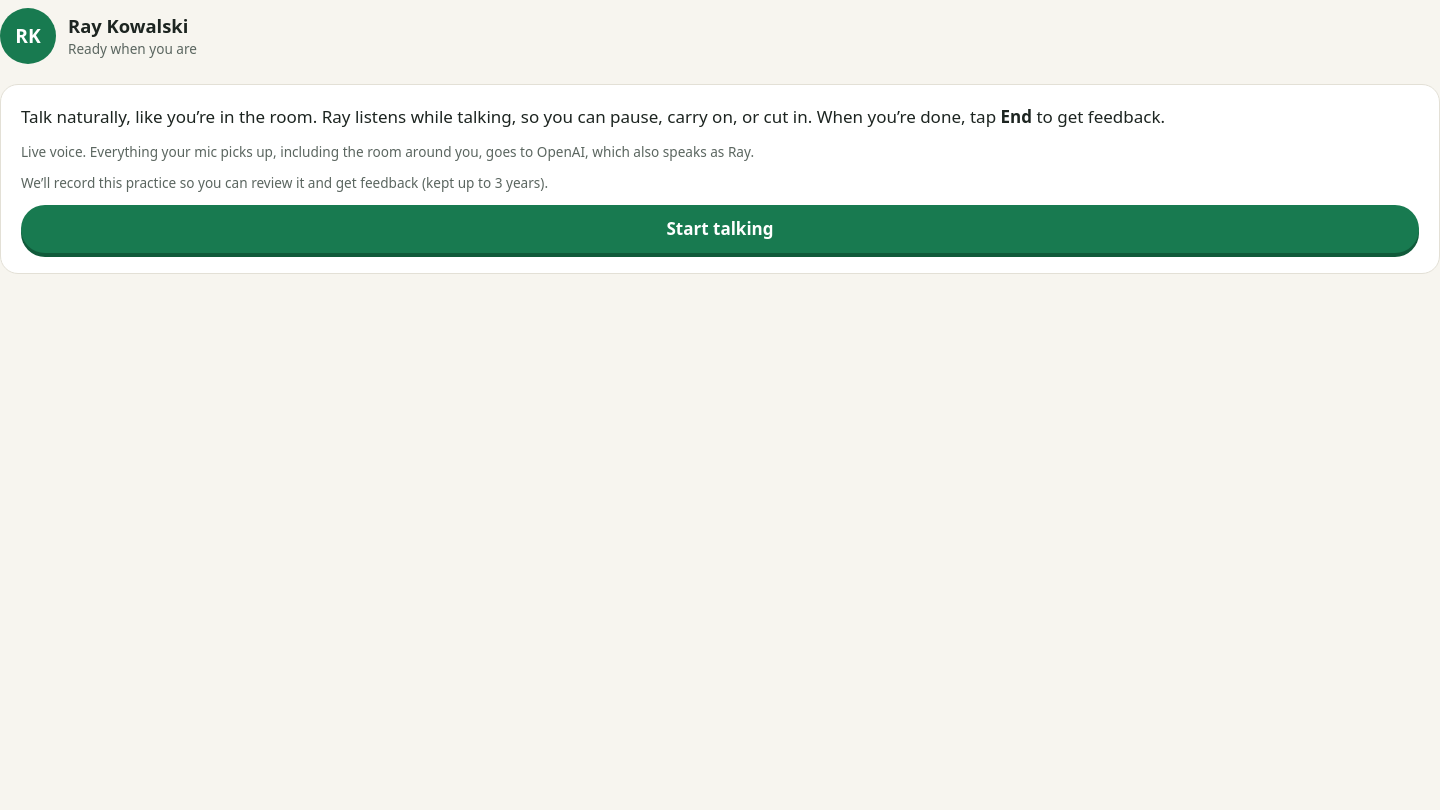
Test case: GPT-Live conversation › waits for the resident’s last words before asking Claude
This screenshot has width=1440, height=810.
Click the button "Start talking" at (720, 229), box [21,205,1419,253]
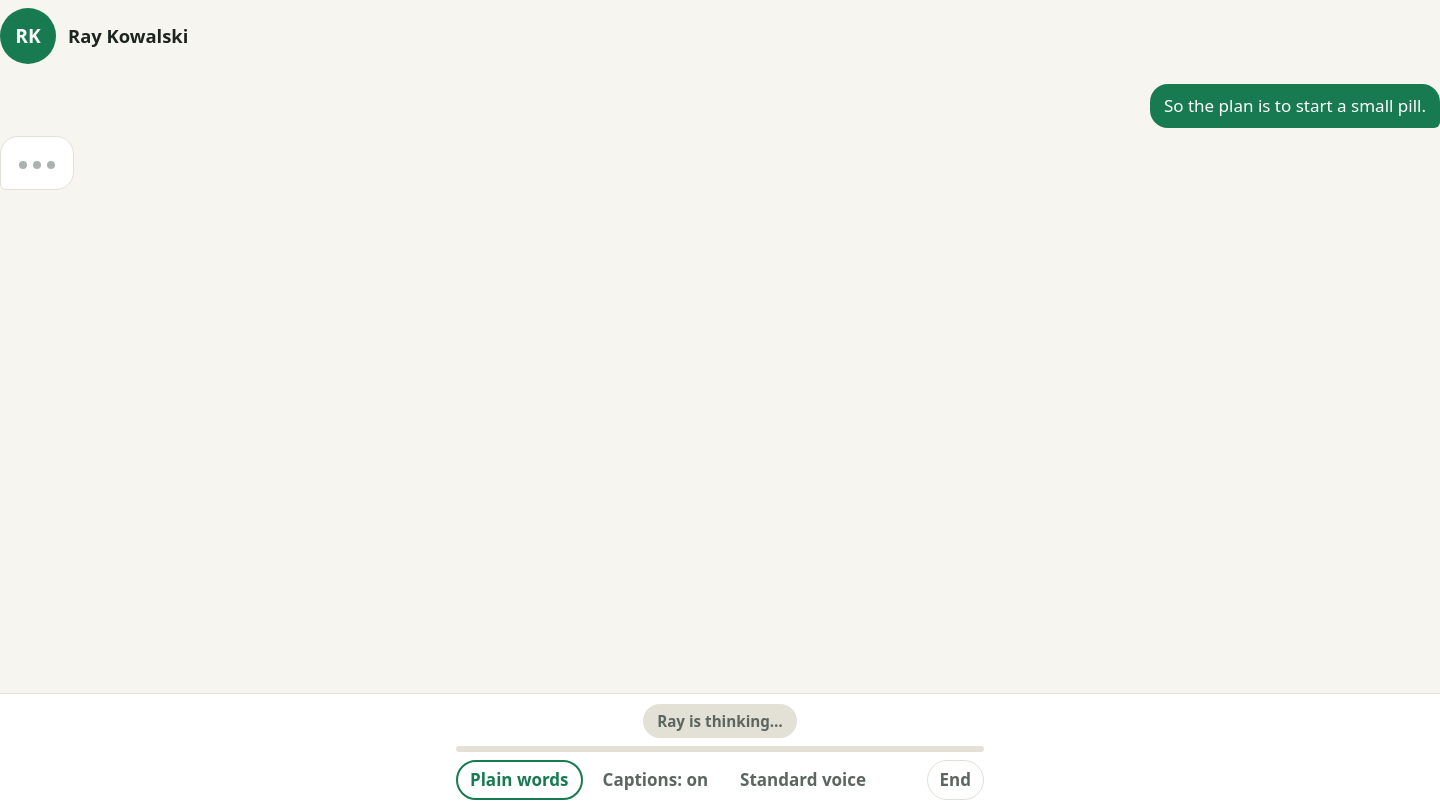
Result: the text "So the plan is to start a small pill." is shown at [1150,84,1439,128]
